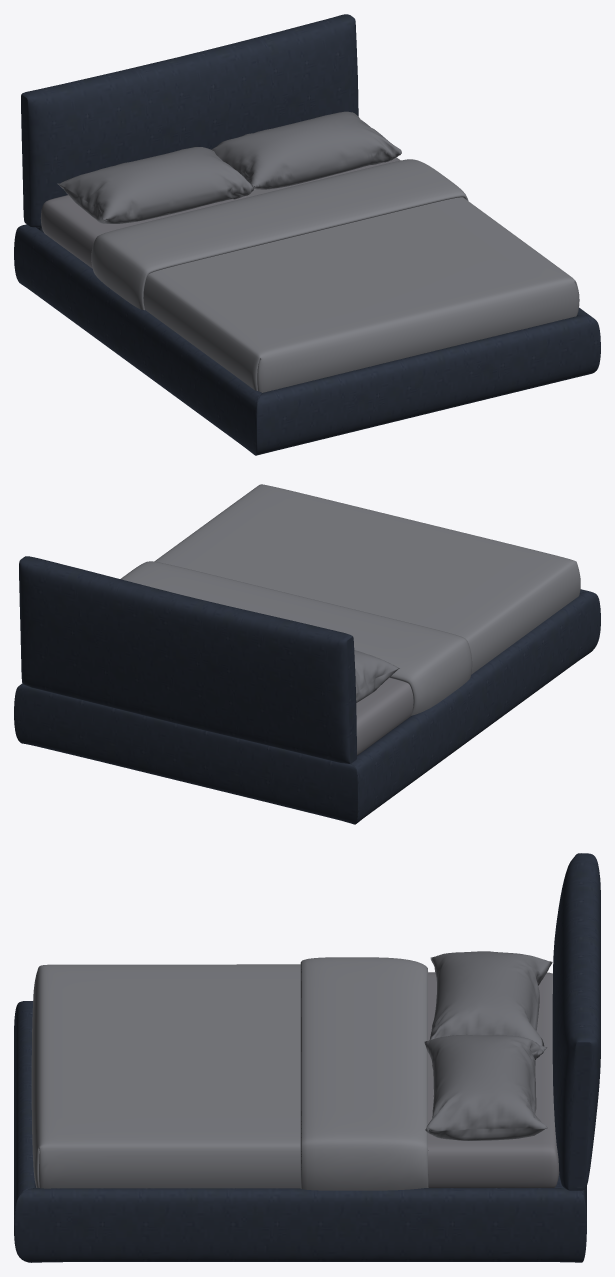
File: bed_soho_3d_model_berto.glb
3 views of the same model, one above another, from view 1: azimuth 30°, elevation 25°; view 2: azimuth 150°, elevation 25°; view 3: azimuth 270°, elevation 25° (orthographic). The views are drawn at different scales.
Parts seen in each view (by area): view 1: Object_2, Object_3, Object_5, Object_4; view 2: Object_2, Object_3, Object_4, Object_5; view 3: Object_3, Object_2, Object_5, Object_4.
Part boxes in pixels (box(x1,y1,x2,y2)): Object_2: box(14, 14, 600, 455); Object_3: box(91, 159, 579, 392); Object_5: box(57, 111, 401, 223); Object_4: box(40, 157, 400, 268); Object_2: box(14, 556, 600, 824); Object_3: box(120, 484, 580, 715); Object_4: box(356, 678, 413, 755); Object_5: box(354, 650, 399, 702); Object_3: box(31, 957, 428, 1190); Object_2: box(14, 853, 600, 1262); Object_5: box(424, 951, 552, 1140); Object_4: box(428, 972, 559, 1187).
Bounding box in the file's own units: 1.8 × 0.9385 × 2.25.
4 materials, 1 textured.
